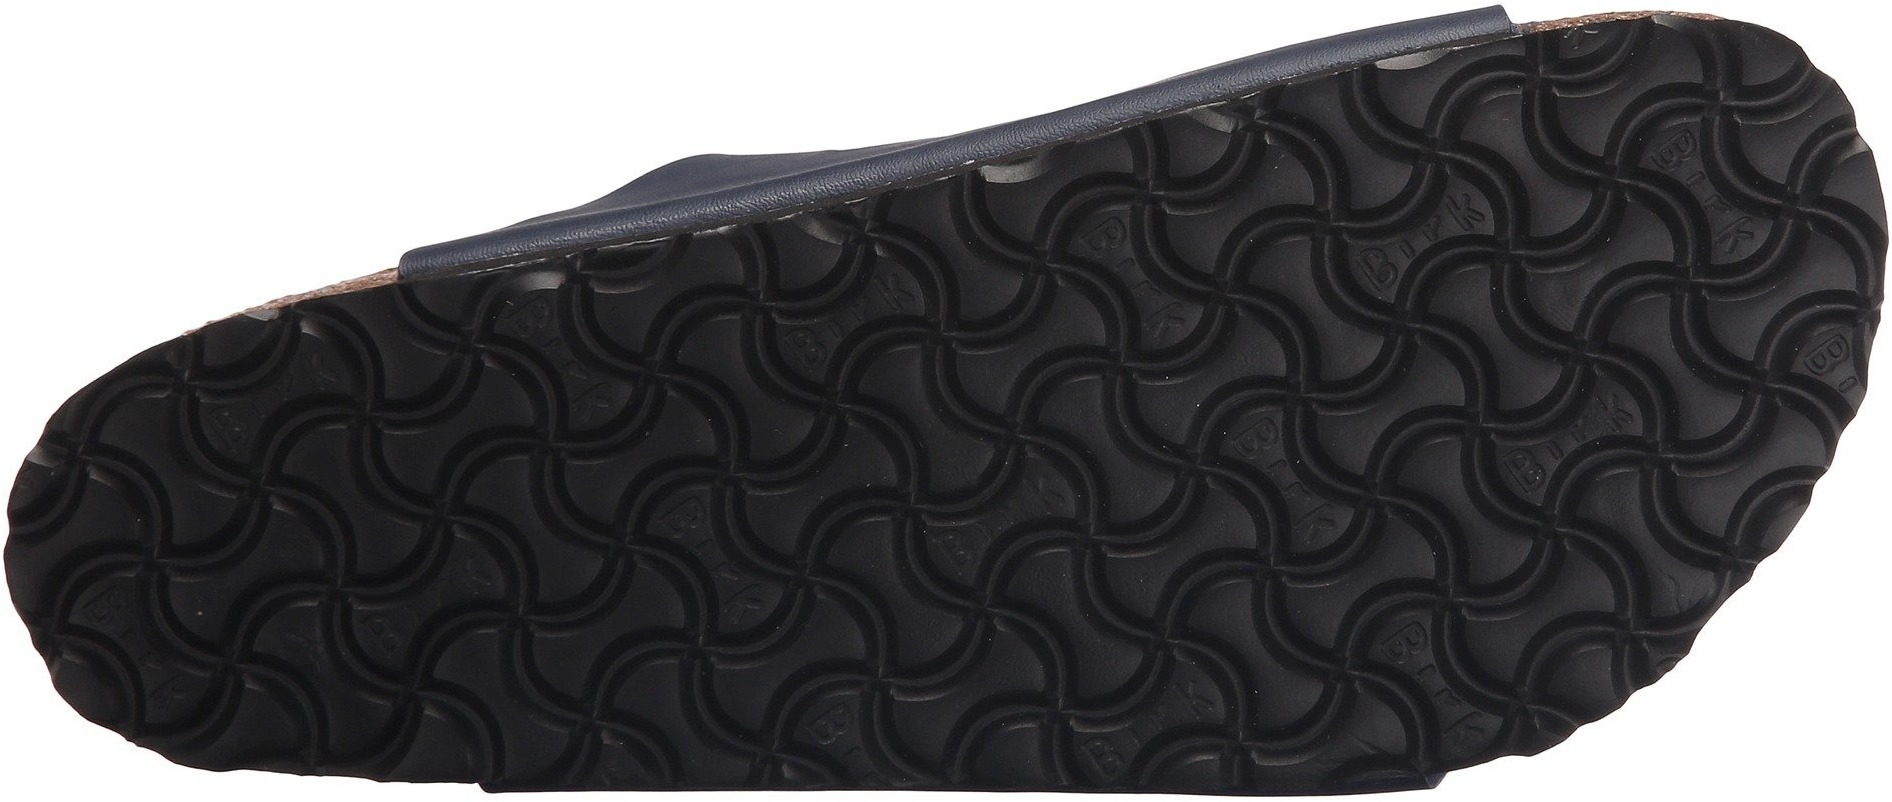bowtie: (1257, 92, 1579, 427), (975, 466, 1287, 775), (54, 425, 367, 710), (938, 178, 1244, 456), (1291, 434, 1587, 714), (681, 478, 960, 767), (389, 295, 672, 574), (1584, 115, 1859, 376), (699, 226, 913, 452), (407, 583, 607, 779), (1596, 385, 1781, 557)
text: (1257, 92, 1579, 427), (54, 425, 367, 710), (938, 178, 1244, 456), (1291, 434, 1587, 714), (681, 478, 960, 767), (389, 295, 672, 574), (1584, 115, 1859, 376), (699, 226, 913, 452), (1610, 92, 1805, 279), (624, 472, 812, 655), (1596, 385, 1781, 557), (475, 282, 653, 437), (1055, 203, 1214, 361), (1059, 669, 1239, 800), (1330, 181, 1516, 306), (63, 564, 179, 709)
